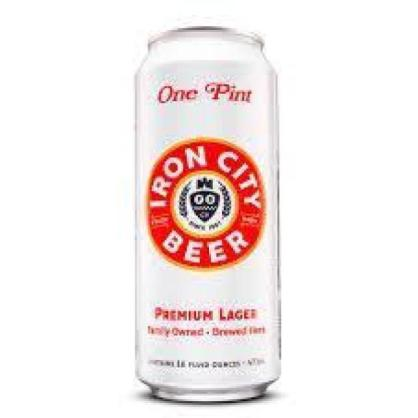can: (130, 22, 286, 408)
